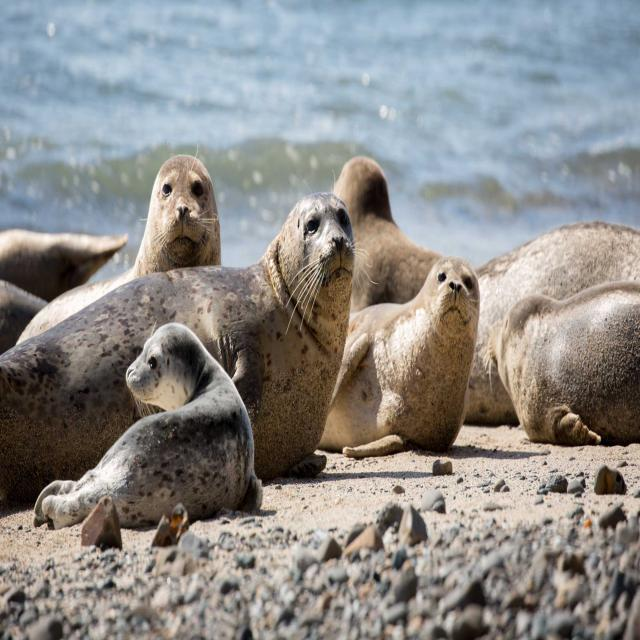WaterDog: (0, 192, 355, 500), (29, 313, 262, 544), (330, 257, 486, 460), (146, 139, 228, 265)
